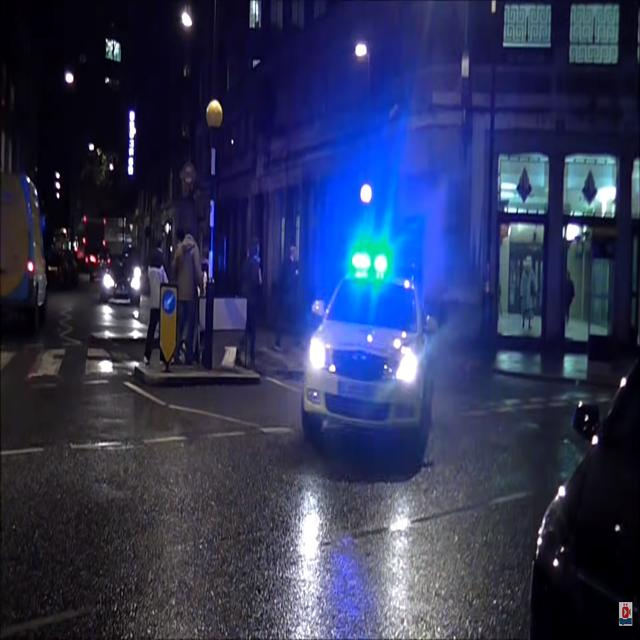emergency-vehicles: (284, 244, 436, 472)
